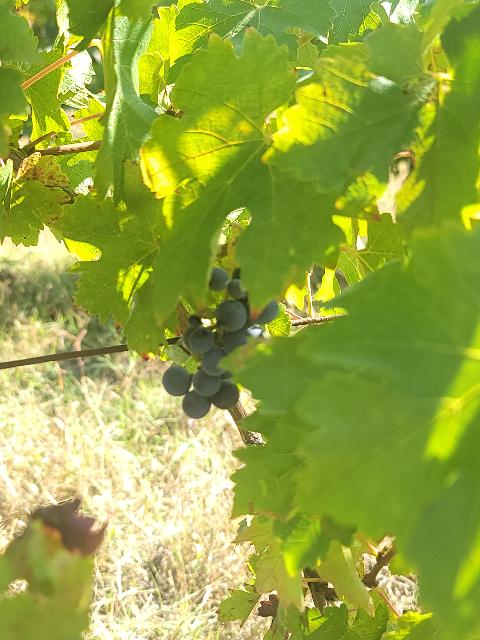grapes: (162, 268, 279, 419)
